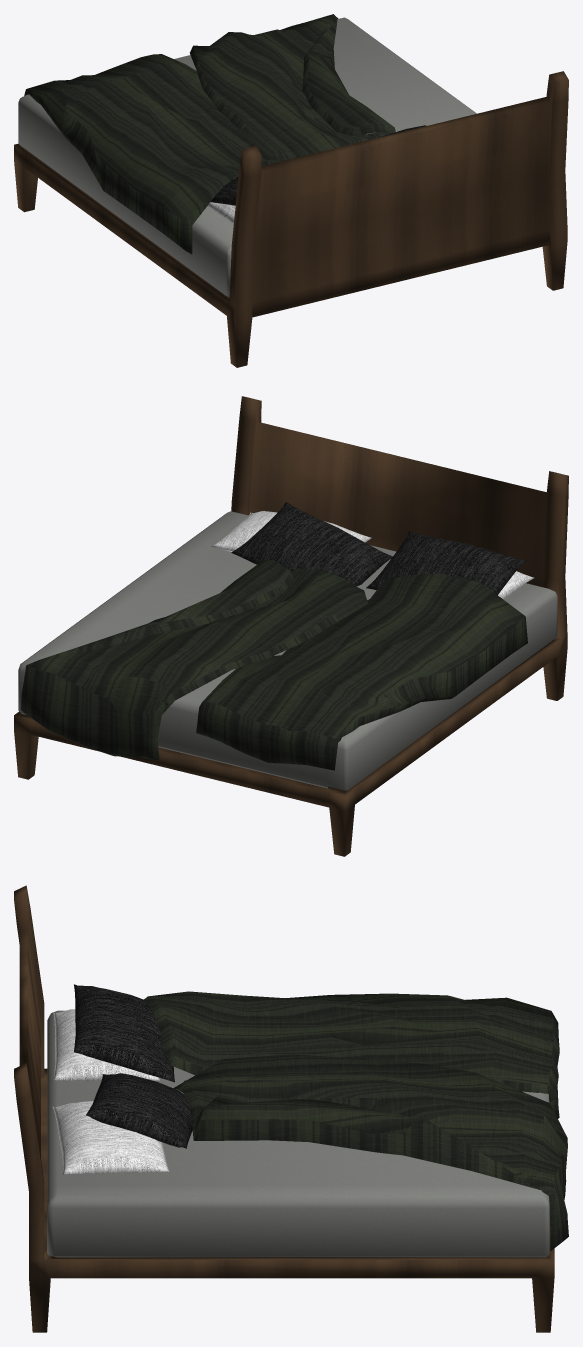
The model's file is bedtextured.fbx.
3 views of the same model, one above another, from view 1: azimuth 30°, elevation 25°; view 2: azimuth 150°, elevation 25°; view 3: azimuth 270°, elevation 25° (orthographic). The views are drawn at different scales.
Parts seen in each view (by area): view 1: bed, planket_w, Planket_m, pillow_w_up; view 2: bed, planket_w, Planket_m, pillow_m_up, pillow_w_up, pillow_m_d; view 3: bed, Planket_m, planket_w, pillow_w_up, pillow_m_d, pillow_m_up, pillow_w_d.
Boxes of the visible parts, x1,y1,x2,y2 form: bed: (14, 17, 568, 367); planket_w: (24, 54, 282, 254); Planket_m: (190, 14, 395, 160); pillow_w_up: (211, 177, 238, 205); bed: (14, 396, 568, 856); planket_w: (196, 574, 527, 770); Planket_m: (21, 559, 368, 760); pillow_m_up: (231, 502, 392, 586); pillow_w_up: (366, 531, 525, 594); pillow_m_d: (211, 511, 371, 551); bed: (14, 885, 554, 1332); Planket_m: (173, 1054, 568, 1250); planket_w: (144, 991, 559, 1118); pillow_w_up: (74, 984, 174, 1082); pillow_m_d: (53, 1101, 169, 1174); pillow_m_up: (86, 1073, 192, 1148); pillow_w_d: (53, 1009, 159, 1080).
Size of the model in its own units: 513 by 315 by 610.
6 materials, 6 textured.
